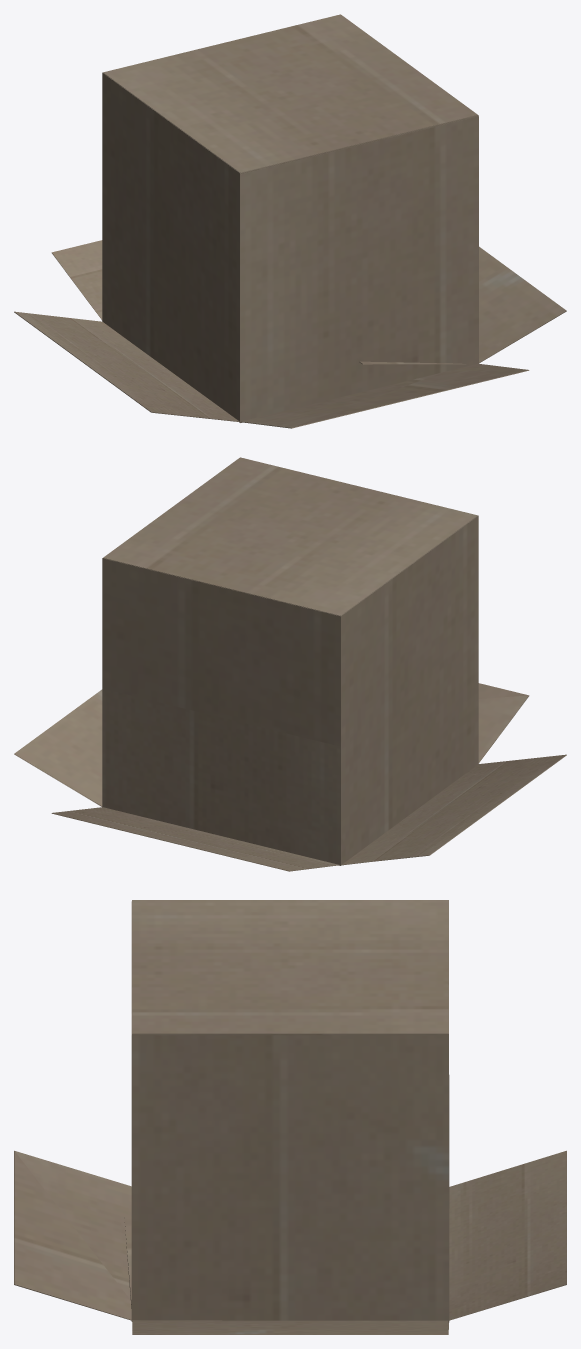
3 views of the same model, one above another, from view 1: azimuth 30°, elevation 25°; view 2: azimuth 150°, elevation 25°; view 3: azimuth 270°, elevation 25° (orthographic). The views are drawn at different scales.
Visible parts, largest first — view 1: BoxOpen2, BoxOpen2_2, BoxOpen, BoxOpen3; view 2: BoxOpen2_2, BoxOpen, BoxOpen2, BoxOpen3; view 3: BoxOpen2, BoxOpen, BoxOpen2_2, BoxOpen3.
Boxes of the visible parts, x1,y1,x2,y2 form: BoxOpen2: [103, 14, 566, 422]; BoxOpen2_2: [102, 73, 527, 427]; BoxOpen: [14, 73, 566, 428]; BoxOpen3: [241, 372, 443, 427]; BoxOpen2_2: [102, 516, 527, 864]; BoxOpen: [14, 516, 566, 871]; BoxOpen2: [14, 457, 477, 865]; BoxOpen3: [478, 695, 528, 762]; BoxOpen2: [131, 900, 448, 1334]; BoxOpen: [14, 900, 566, 1334]; BoxOpen2_2: [14, 1034, 448, 1319]; BoxOpen3: [14, 1150, 131, 1299].
Size of the model in its own units: 697 by 401 by 697.
